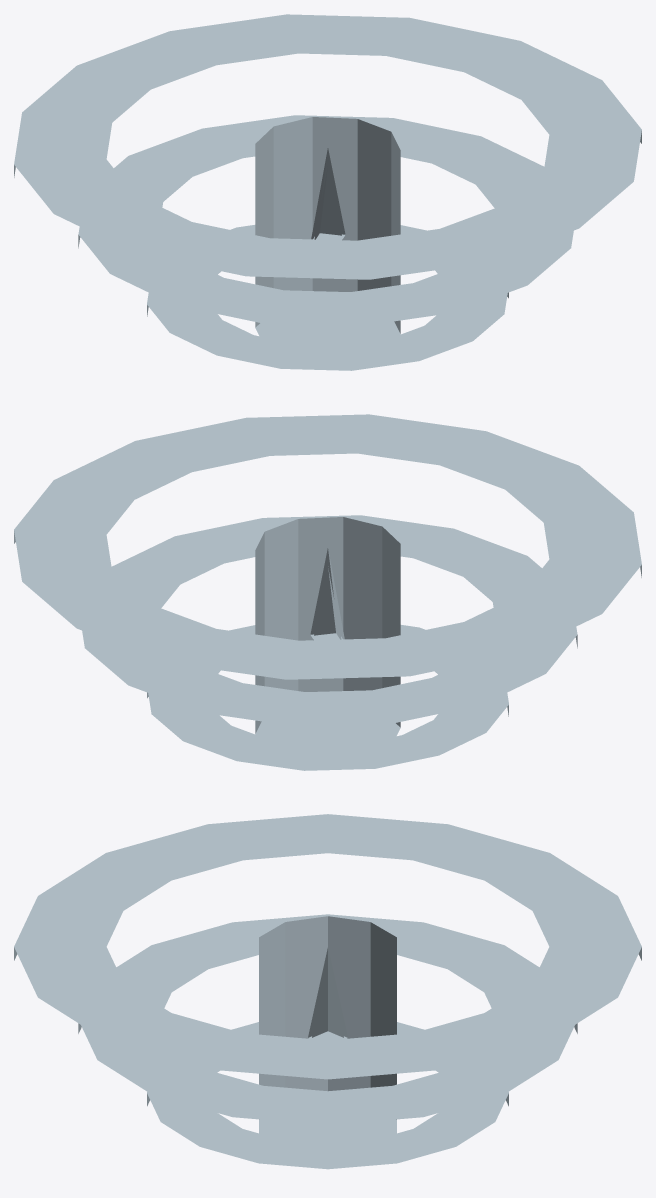
The model's file is spell_blizzard_vortex.glb.
3 views of the same model, one above another, from view 1: azimuth 30°, elevation 25°; view 2: azimuth 150°, elevation 25°; view 3: azimuth 270°, elevation 25° (orthographic).
Visible parts, largest first — view 1: SpellBlizzardVortex_Node; view 2: SpellBlizzardVortex_Node; view 3: SpellBlizzardVortex_Node.
Part boxes in pixels (x1,y1,x2,y2): SpellBlizzardVortex_Node: (14,14,641,370); SpellBlizzardVortex_Node: (14,414,641,770); SpellBlizzardVortex_Node: (14,814,641,1169).
Bounding box in the file's own units: 1.56 × 0.5 × 1.56.
